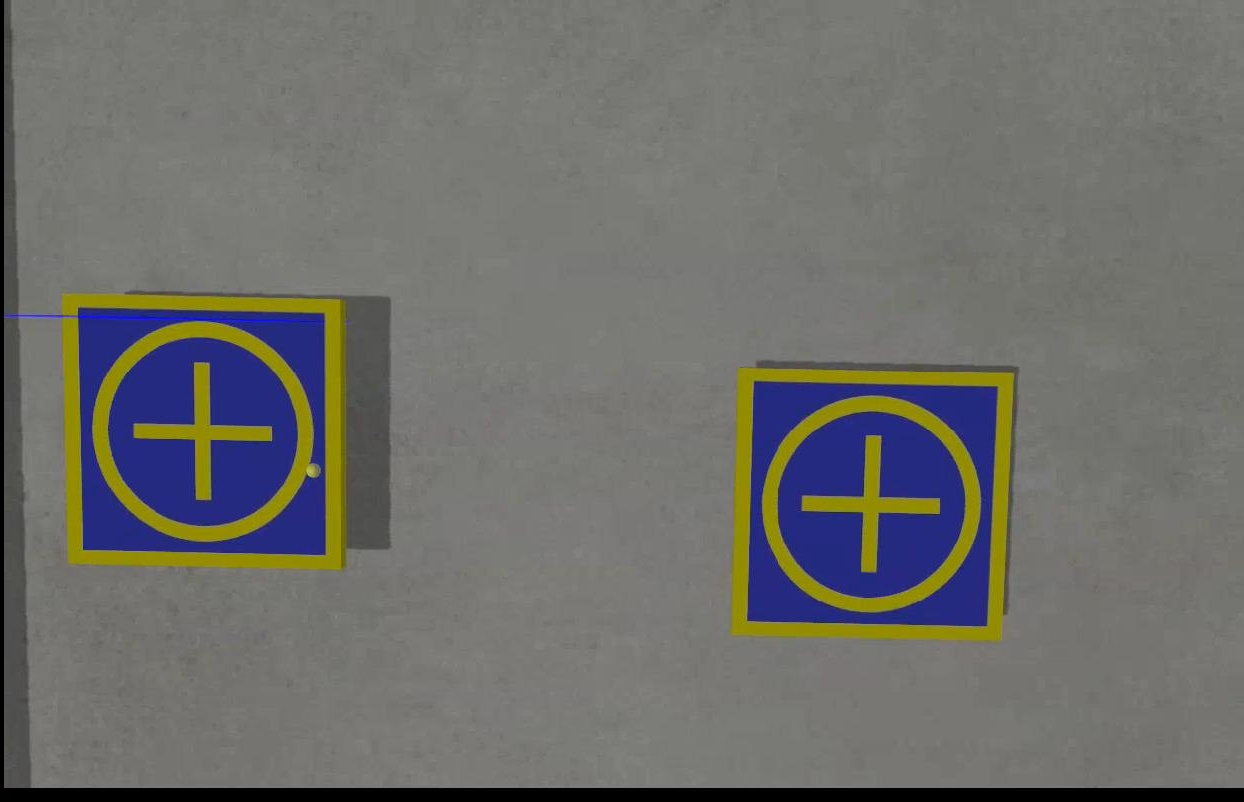small_base: (728, 364, 1017, 644), (62, 295, 344, 571)
